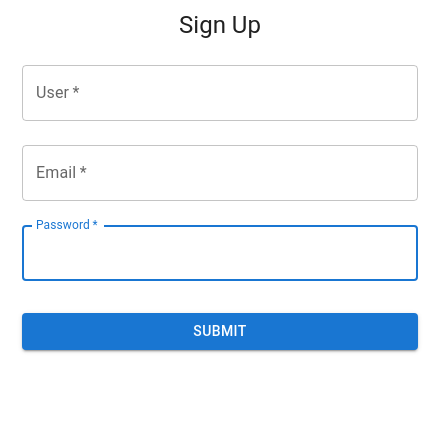
Test case: UserController › registers user
This screenshot has width=441, height=431.
Type "testuser" into the field labelled "User *". click: (220, 93)
box: [22,65,418,121]
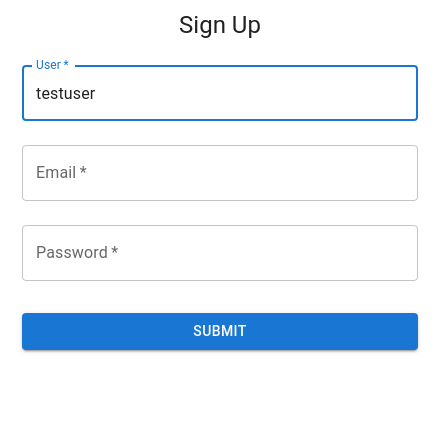
Type "testuser@example.com" into the field labelled "Email *". click: (220, 173)
box: [22,145,418,201]
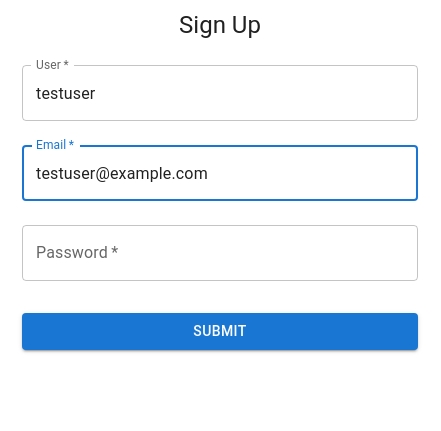
Type "password" into the password field labelled "Password *". click: (220, 253)
box: [22,225,418,281]
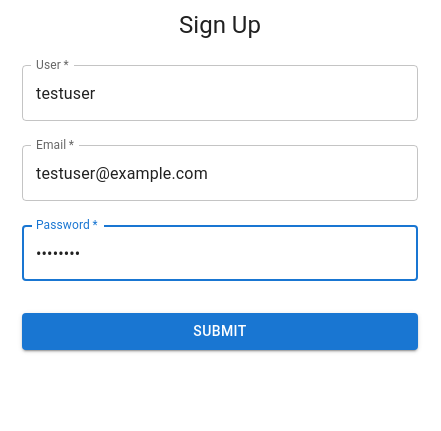
# submit the form
Click the button "Submit". click: (220, 331)
box: [22,313,418,350]
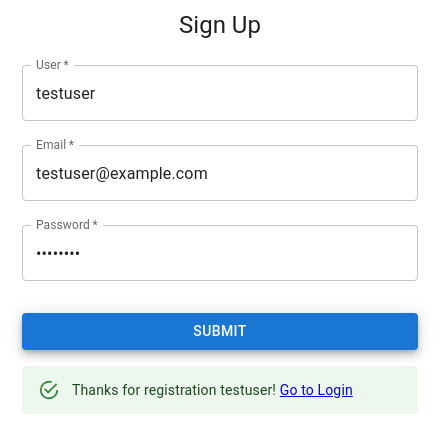
Result: the text "Thanks for registration testuser! Go to Login" is shown at [72,382,353,398]
